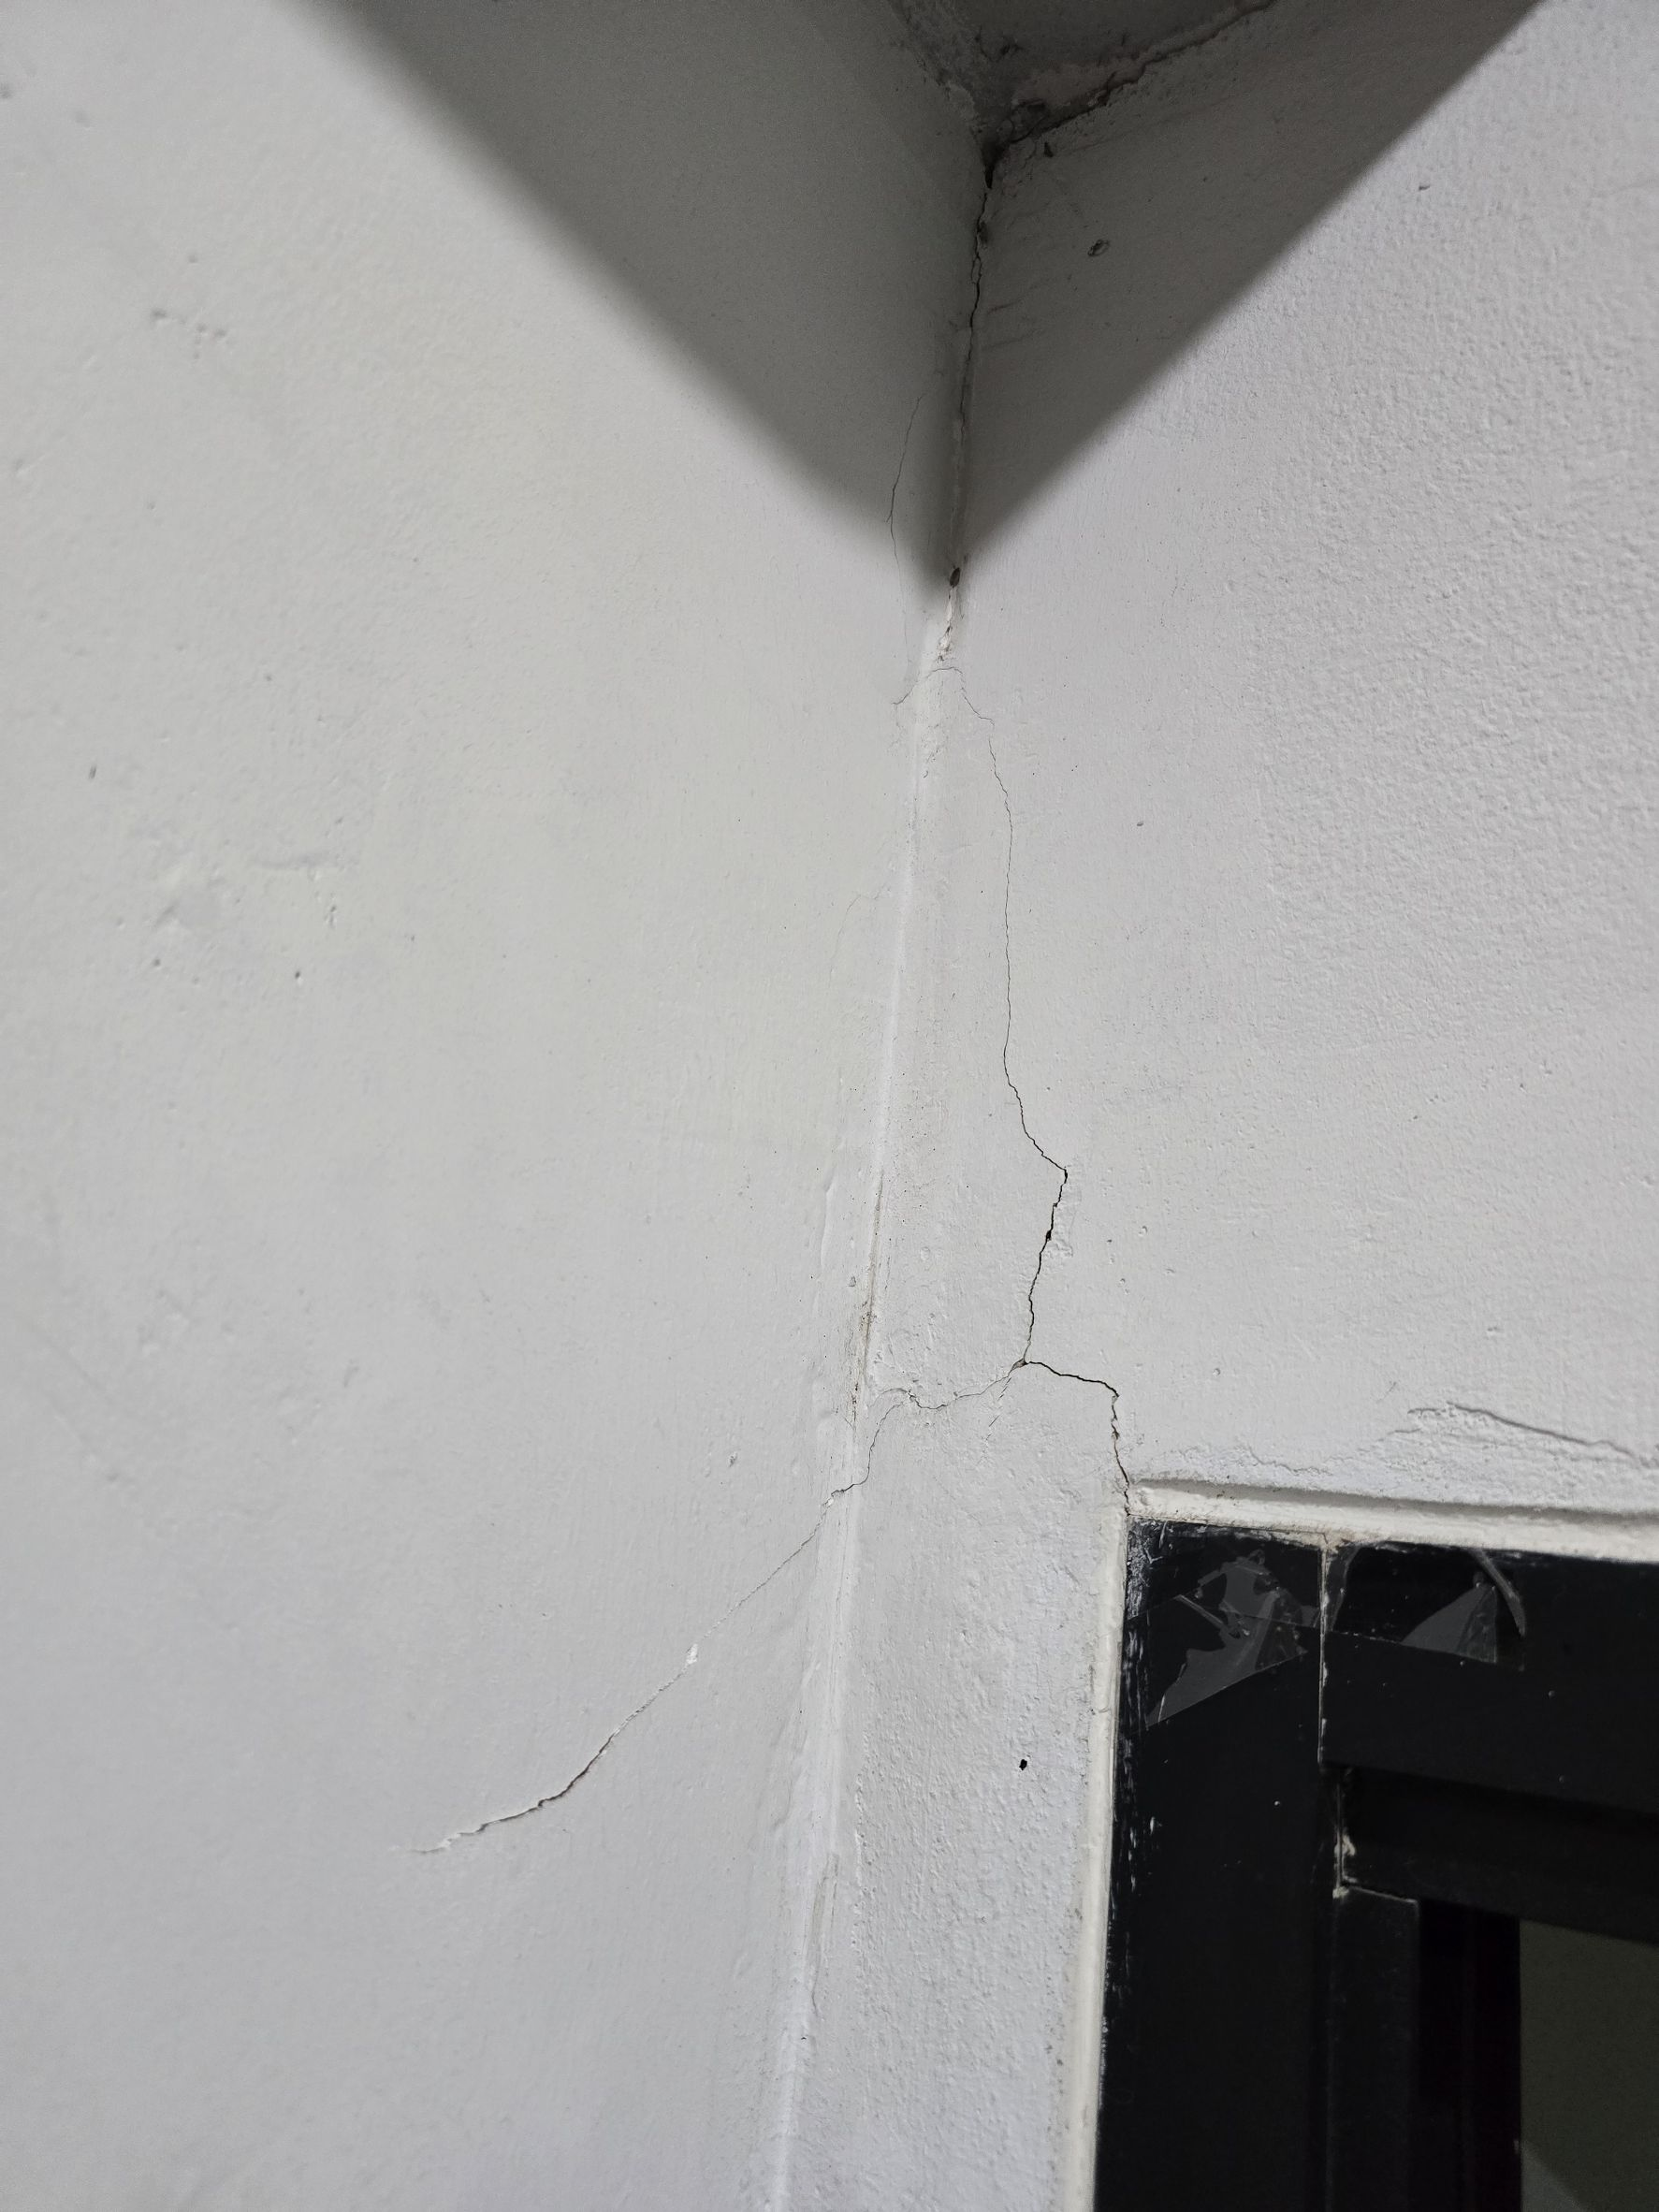Low: (873, 155, 1140, 1541)
